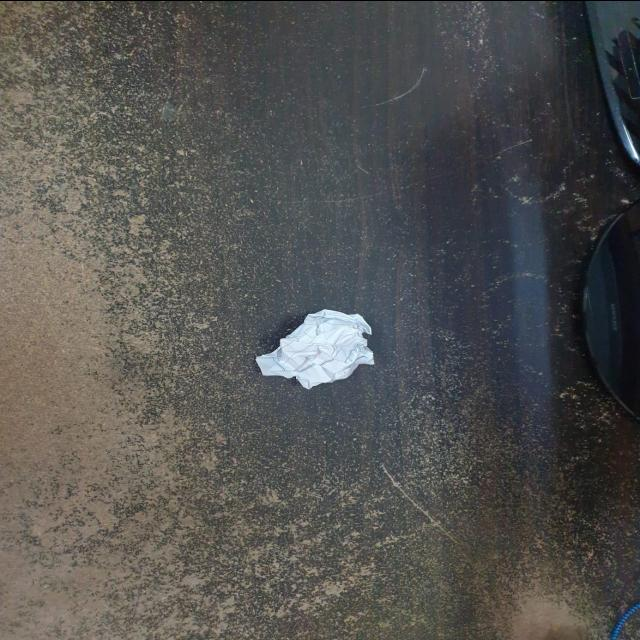kertas: (244, 310, 372, 396)
